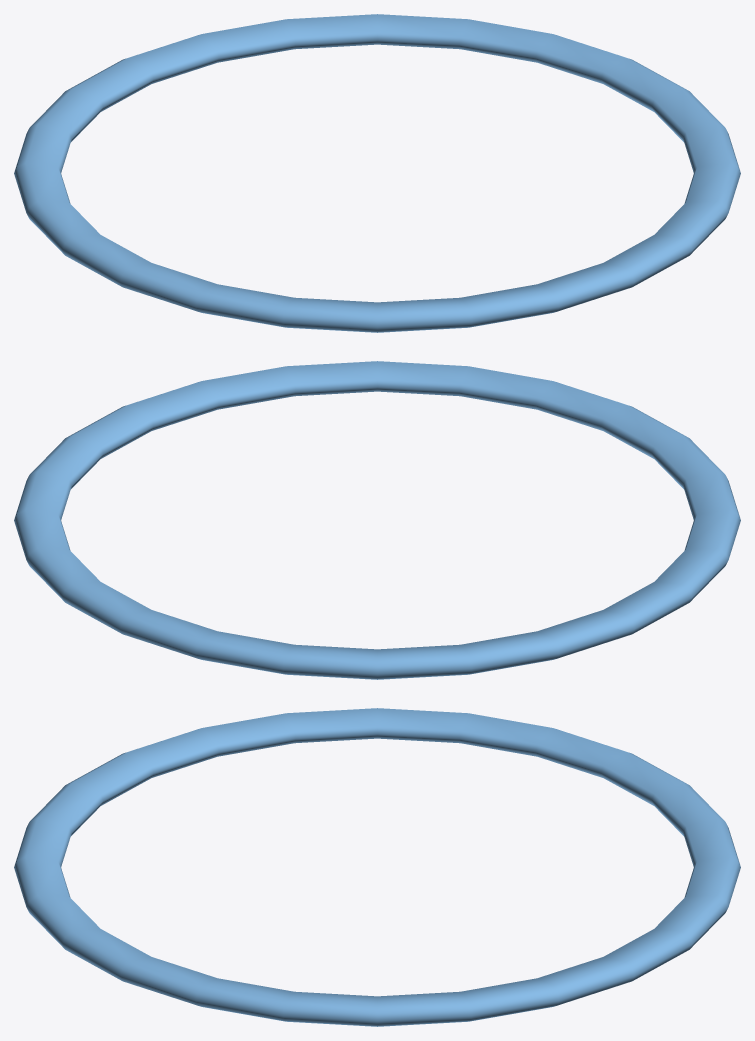
The model's file is ring_blue.fbx.
The picture shows the model from 3 angles, top to bottom: view 1: azimuth 30°, elevation 25°; view 2: azimuth 150°, elevation 25°; view 3: azimuth 270°, elevation 25°; orthographic projection.
Visible parts, largest first — view 1: Torus001; view 2: Torus001; view 3: Torus001.
Part boxes in pixels (x1,y1,x2,y2): Torus001: (14,14,740,332); Torus001: (14,361,740,679); Torus001: (14,708,740,1026).
Bounding box in the file's own units: 34.39 × 1.12 × 34.39.
1 material, 1 textured.
